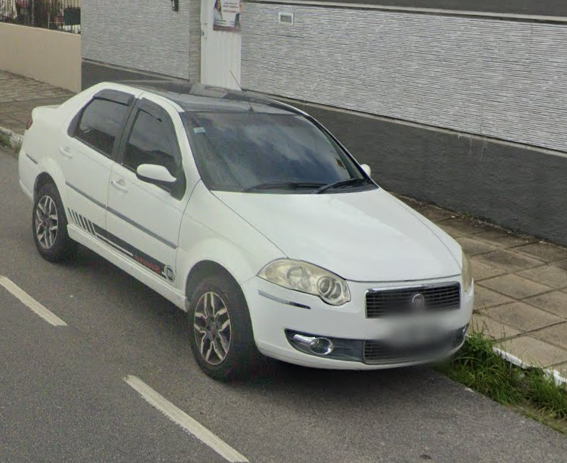car: (15, 69, 477, 388)
